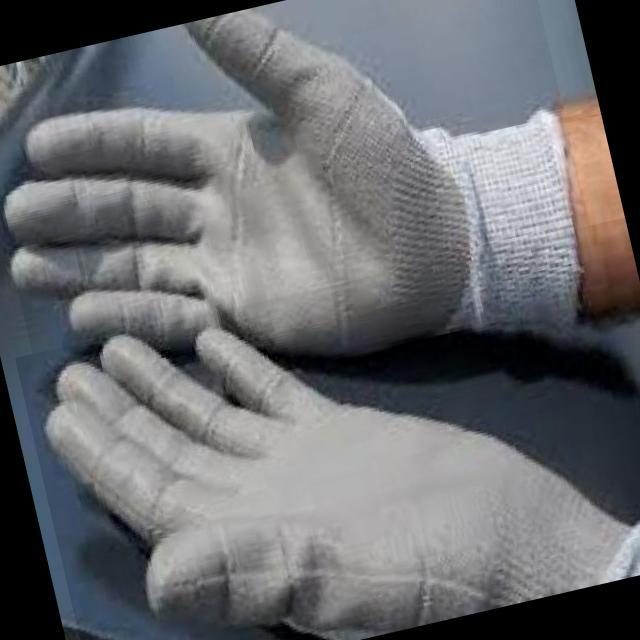Gloves: (0, 0, 615, 464), (14, 216, 640, 640)
